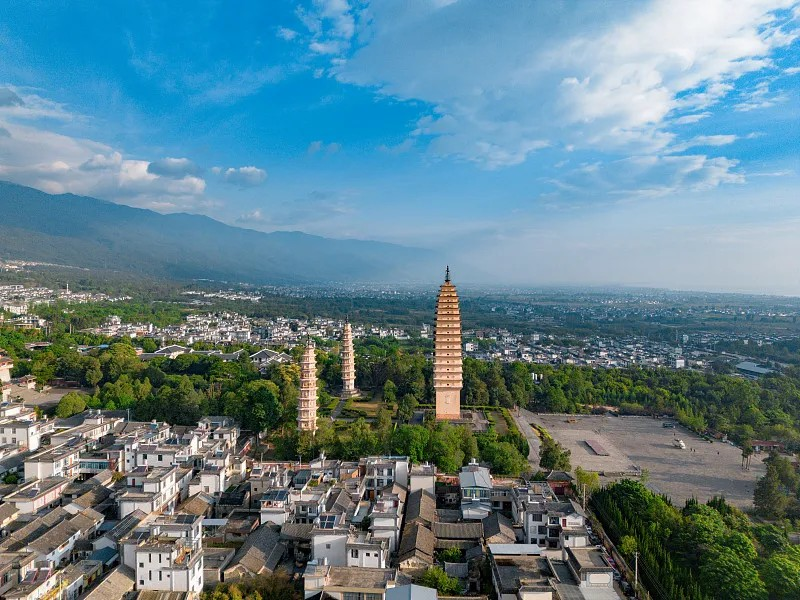ThreePagoda: (432, 267, 464, 419)
